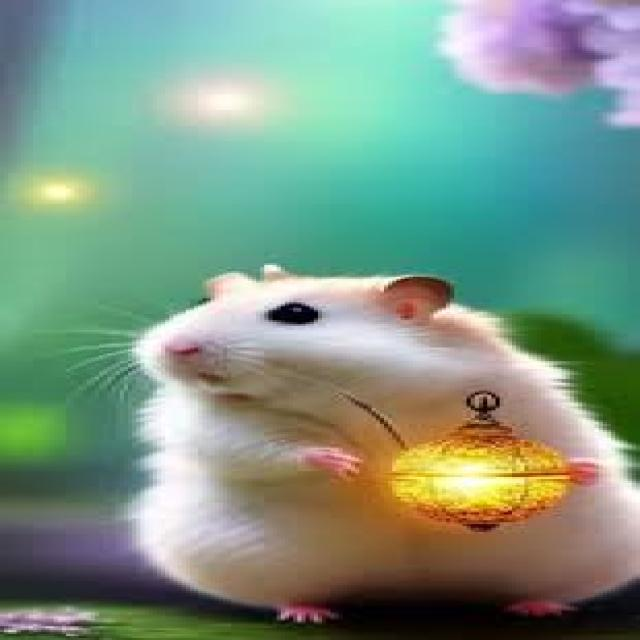rat: (62, 261, 636, 624)
